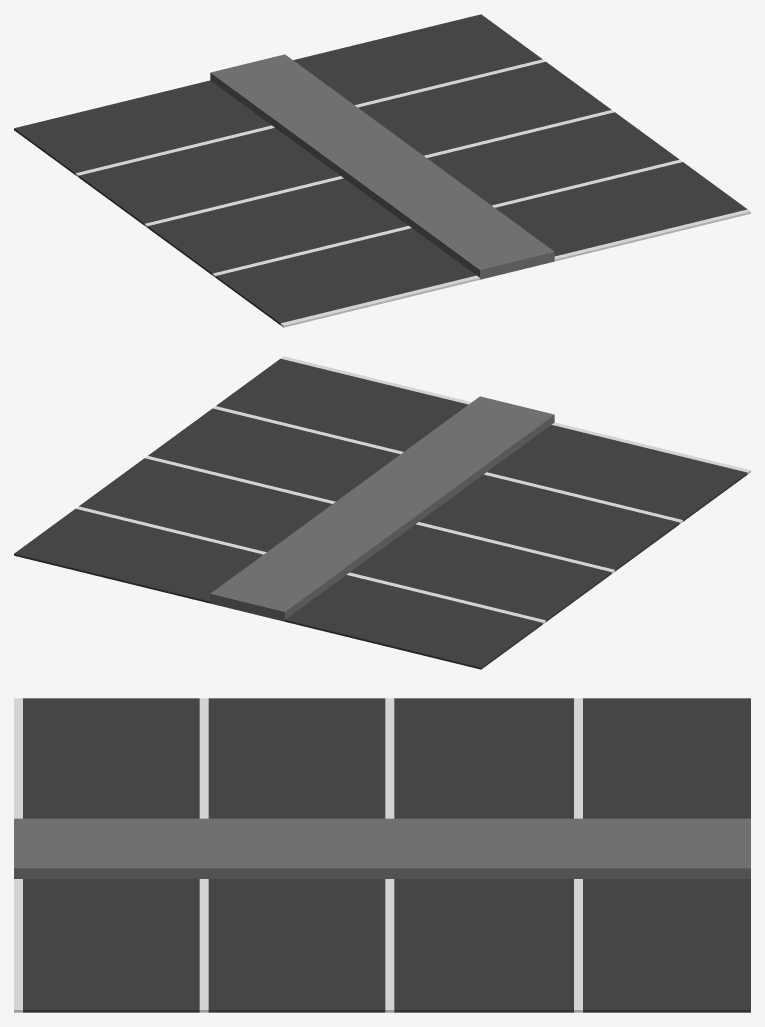
File: parking.vox.obj
The picture shows the model from 3 angles, top to bottom: view 1: azimuth 30°, elevation 25°; view 2: azimuth 150°, elevation 25°; view 3: azimuth 270°, elevation 25°; orthographic projection. The views are drawn at different scales.
Bounding box in the file's own units: 25 × 0.5 × 25.
1 material, 1 textured.
